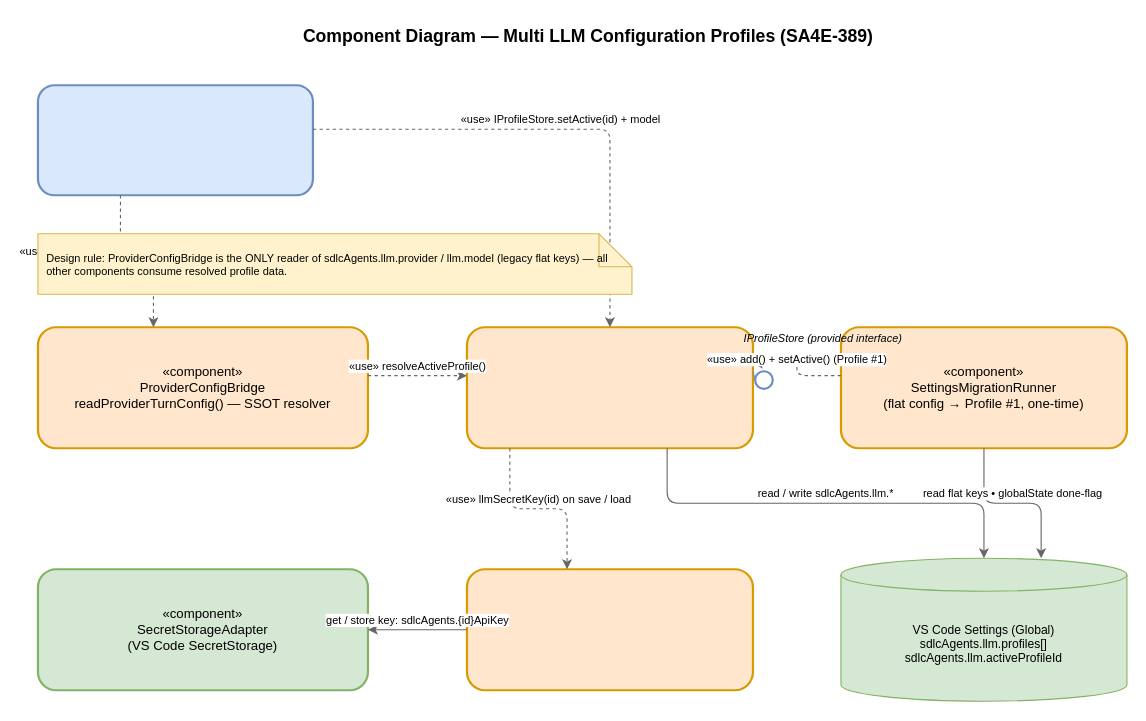
Image size: 1146x721. Some labels were removed from this diagram. Each missing label, with the centre of its shape:
«component» ChatModelPicker (Chat webview — grouped by provider): point 175,140
«component» LlmSecretKeys (helper) llmSecretKey(id) / readLlmApiKey(secrets, id): point 609,629
«component» ProfilesService list / add / edit / delete / setActive / test: point 609,387
